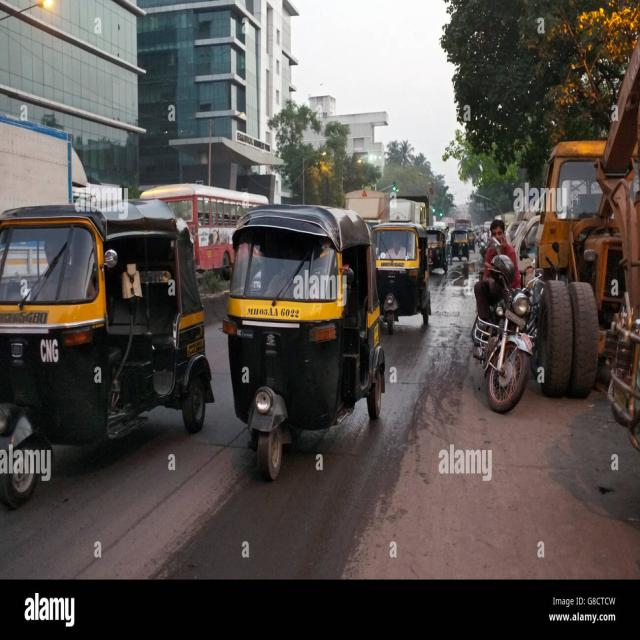Vehicles: (0, 194, 212, 503), (215, 185, 395, 506), (371, 207, 438, 346), (480, 273, 540, 427), (428, 225, 451, 284), (452, 217, 473, 277)
